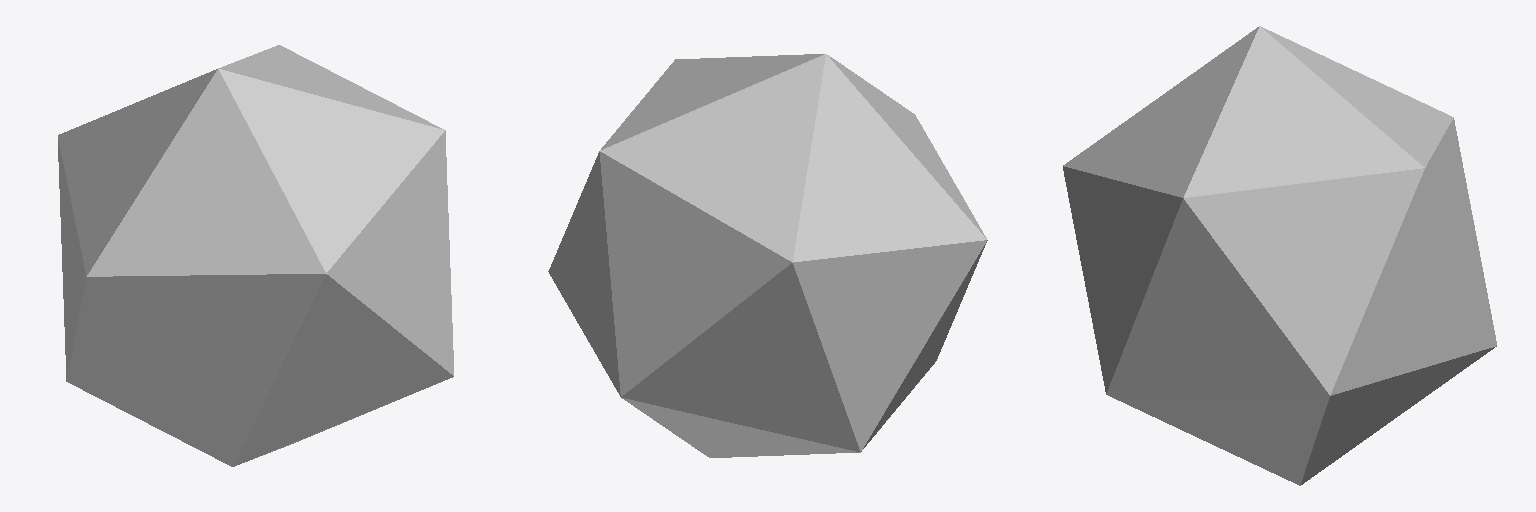
3 renders of one model, left to right at view 1: azimuth 30°, elevation 25°; view 2: azimuth 150°, elevation 25°; view 3: azimuth 270°, elevation 25°, orthographic.
Visible parts, largest first — view 1: shtuchka; view 2: shtuchka; view 3: shtuchka.
Boxes of the visible parts, box(x1,y1,x2,y2) form: shtuchka: box(58, 45, 453, 466); shtuchka: box(548, 54, 987, 457); shtuchka: box(1063, 26, 1496, 485).
Bounding box in the file's own units: 275 × 279 × 266.